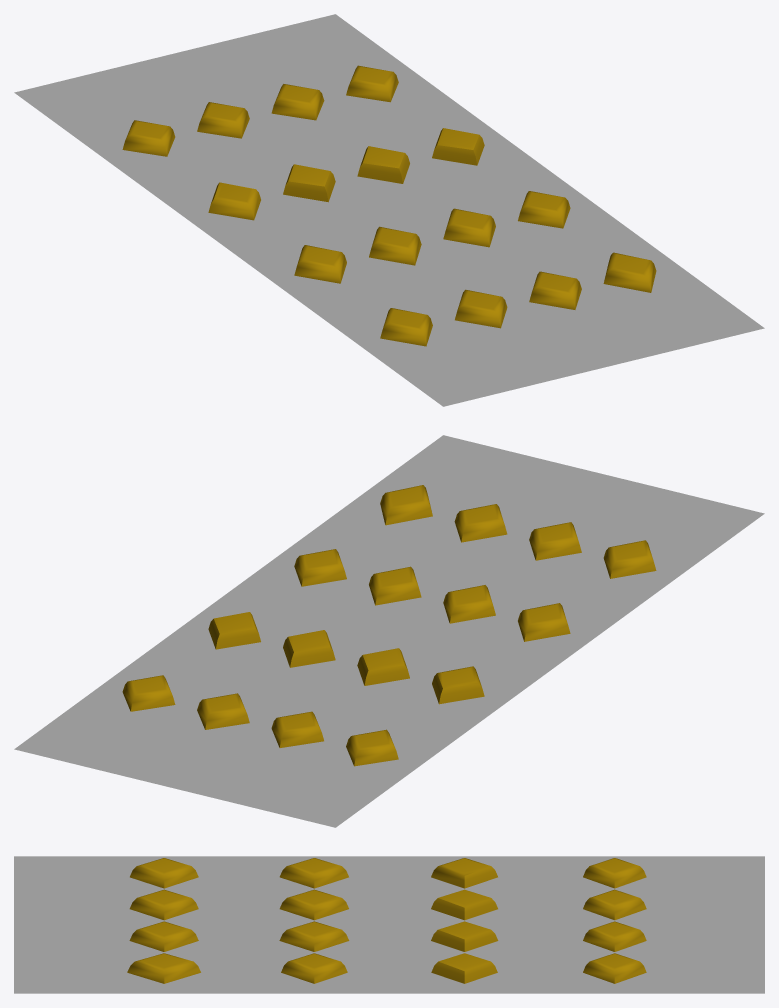
Rendered from pilles.fbx.
3 renders of one model, top to bottom at view 1: azimuth 30°, elevation 25°; view 2: azimuth 150°, elevation 25°; view 3: azimuth 270°, elevation 25°, orthographic. The views are drawn at different scales.
Parts seen in each view (by area): view 1: pilles; view 2: pilles; view 3: pilles.
Part boxes in pixels (left/top/right/bottom): pilles: left=14, top=14, right=764, bottom=406; pilles: left=14, top=435, right=764, bottom=827; pilles: left=14, top=856, right=764, bottom=993.
Size of the model in its own units: 12.78 by 0.5109 by 29.54.
